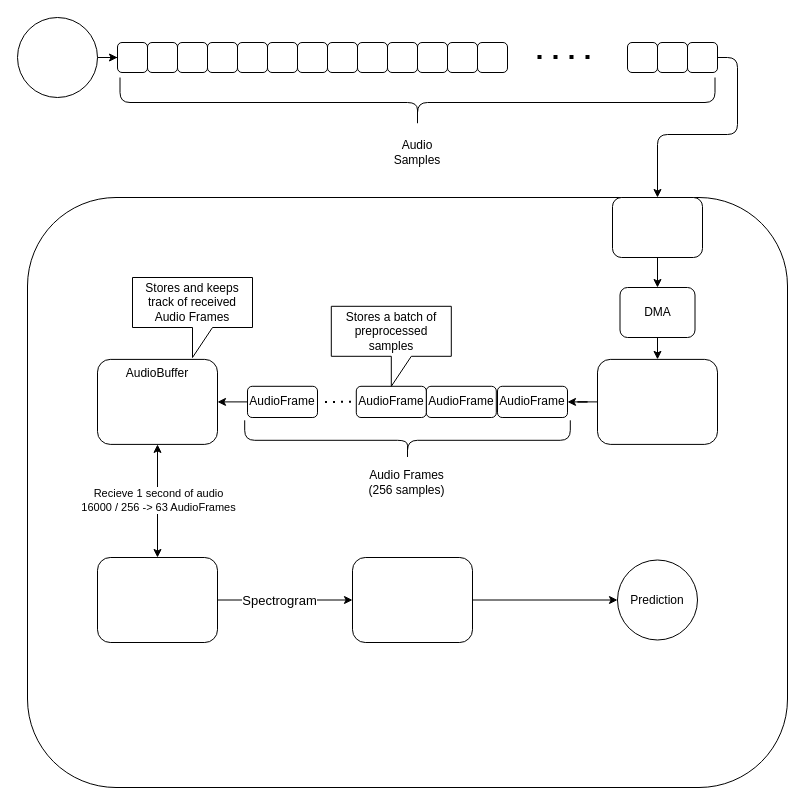
Some shapes in this 805 by 805 pixel diagram are drawn without their labels. The shapes that lost their labels are listed below. From the top down, each one's box as (x1, y1, x2, y2) in pixels, then its label:
(16, 16, 98, 98): INMP441
(612, 196, 702, 258): I2S Peripheral
(596, 358, 718, 444): AudioInput
(96, 556, 218, 642): AudioProcessor
(352, 556, 472, 642): TensorFlowModel
